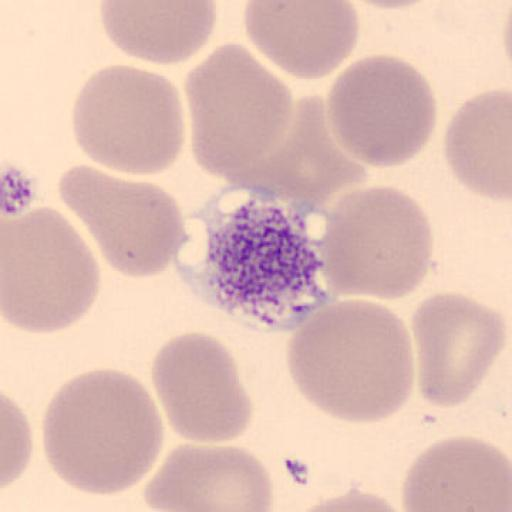Platelet: (203, 198, 336, 330)
RBC: (186, 82, 369, 212), (285, 297, 416, 427), (182, 42, 296, 190), (39, 368, 166, 498), (58, 160, 188, 281), (250, 92, 369, 212), (316, 184, 434, 301), (325, 53, 439, 170), (70, 63, 186, 177), (2, 204, 102, 336), (150, 330, 254, 446), (411, 291, 508, 409), (142, 441, 275, 512), (242, 0, 360, 80), (401, 434, 512, 512), (98, 0, 219, 66), (442, 89, 512, 202), (1, 392, 33, 490), (286, 492, 411, 511), (346, 0, 440, 10)
